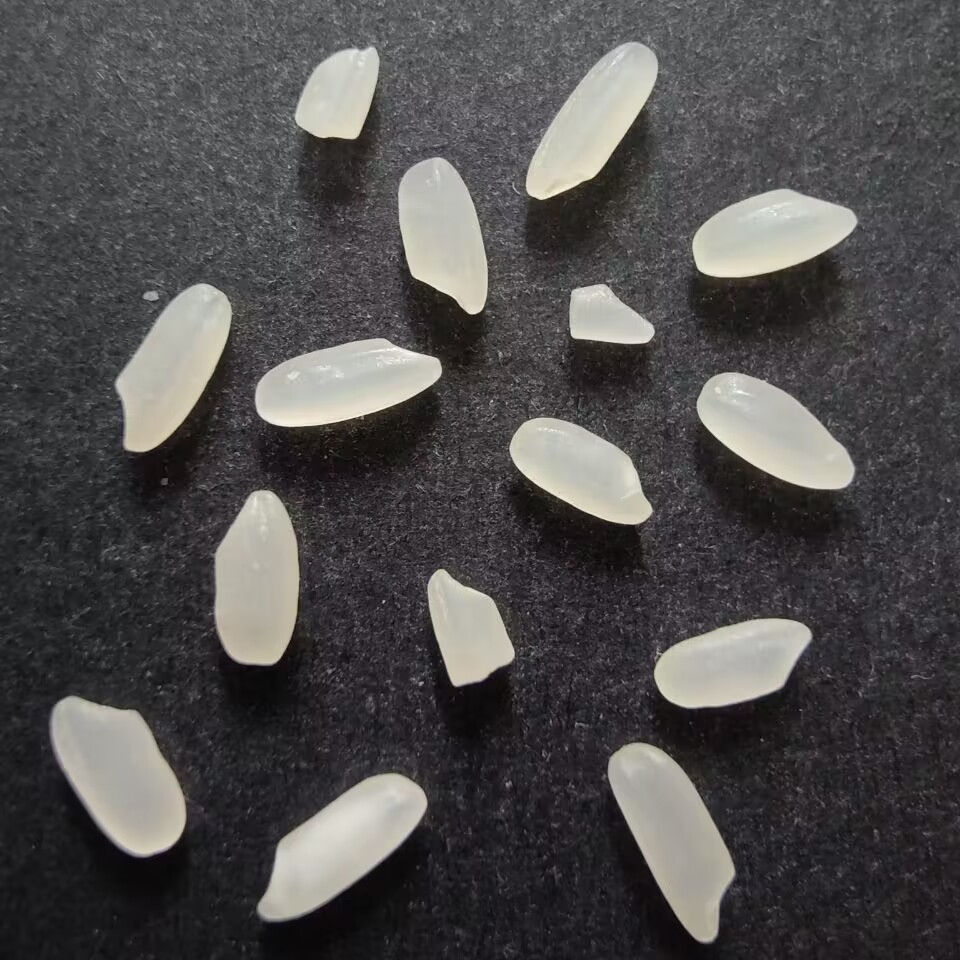broken: (426, 564, 522, 692), (291, 43, 384, 146), (560, 280, 657, 347)
rice: (253, 767, 431, 925), (605, 740, 737, 950), (47, 692, 192, 859), (520, 37, 663, 205), (114, 281, 235, 460), (692, 370, 858, 493), (250, 332, 448, 429), (689, 182, 864, 283), (209, 484, 303, 669), (505, 416, 654, 528), (394, 155, 489, 319), (651, 615, 812, 709)
